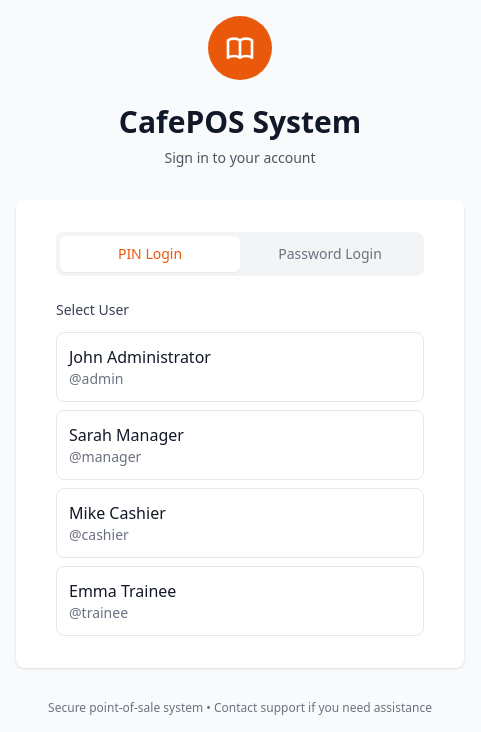
Test: AuthenticationForm › Mode Switching › should switch from PIN to password mode
The image size is (481, 732).
Click the button "Password Login". click: (330, 254)
box: left=240, top=236, right=420, bottom=272
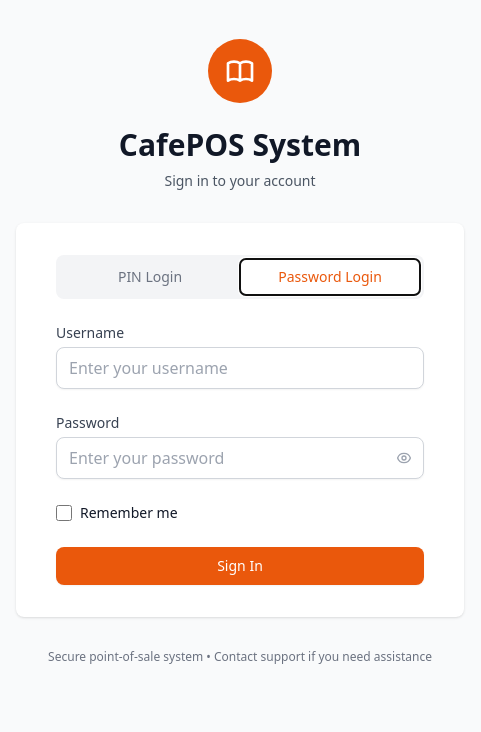
Check: the field labelled "Username" is shown, box left=56, top=347, right=424, bottom=389
Check: the password field labelled "Password" is shown, box left=56, top=437, right=424, bottom=479
